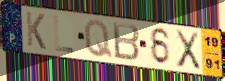6: (149, 27, 171, 67)
B: (111, 21, 141, 63)
K: (24, 10, 47, 52)
L: (53, 14, 76, 55)
Q: (83, 19, 114, 60)
X: (174, 28, 202, 71)
